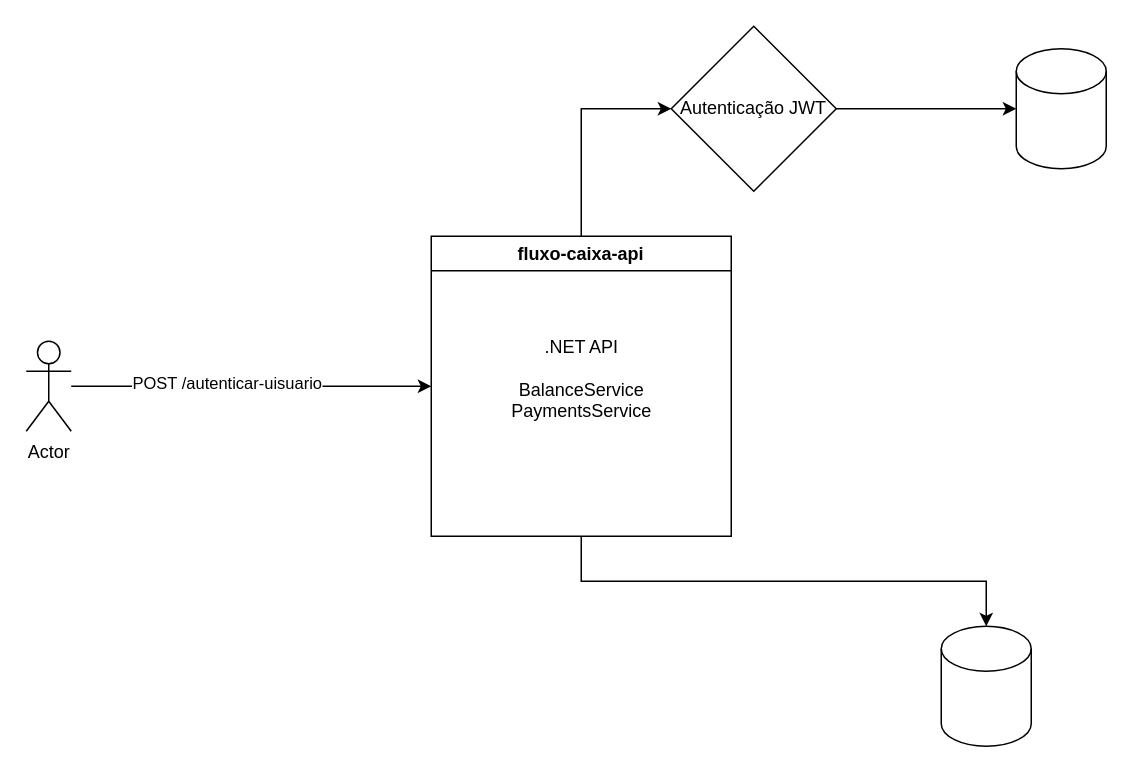
Some shapes in this 1133 by 773 pixel diagram are drawn without their labels. Each missing label, with the box of its shape:
DB Payments: (940, 625, 1031, 746)
DB Users: (1015, 47, 1106, 169)
